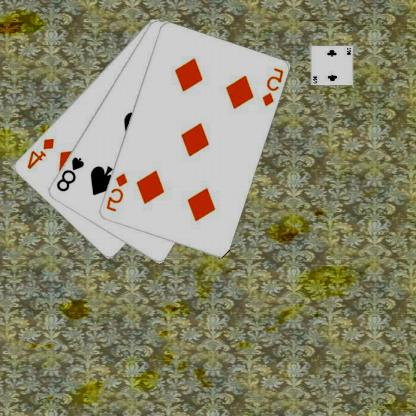4D: (26, 135, 57, 171)
5D: (260, 65, 286, 108), (105, 171, 130, 213)
8S: (55, 154, 87, 193)
